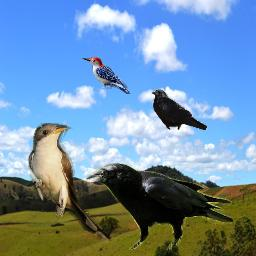Crow: (83, 163, 233, 250), (151, 89, 207, 130)
Cuckoo: (28, 123, 113, 245)
Woodpecker: (82, 57, 130, 94)
